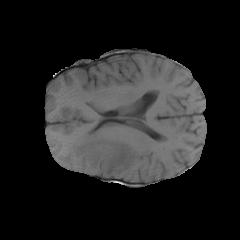glioma: (65, 128, 136, 176)
